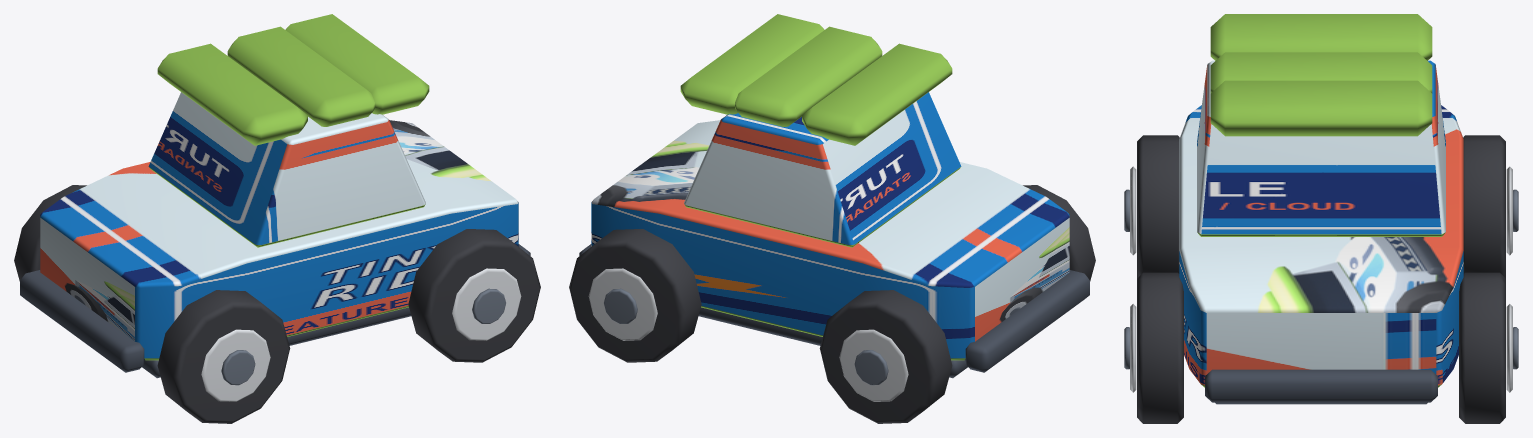
3 renders of one model, left to right at view 1: azimuth 30°, elevation 25°; view 2: azimuth 150°, elevation 25°; view 3: azimuth 270°, elevation 25°, orthographic. The views are drawn at different scales.
Visible parts, largest first — view 1: CR-02_connected_shell, CR-02_cabin, Tire, Tire.002, shell plate, shell plate.001, shell plate.002, front bumper, Rim, Rim.002, Tire.001, underbody (+2 smaller); view 2: CR-02_connected_shell, CR-02_cabin, Tire.001, Tire.003, shell plate, shell plate.001, shell plate.002, front bumper, Rim.001, Rim.003, Tire, underbody (+2 smaller); view 3: CR-02_connected_shell, CR-02_cabin, shell plate.002, shell plate, rear bumper, Tire.002, Tire.003, shell plate.001, Tire, Tire.001, underbody, Rim (+3 smaller).
Part boxes in pixels (x1,y1,x2,y2): CR-02_connected_shell: (40,120,518,360); CR-02_cabin: (148,92,425,247); Tire: (157,290,290,423); Tire.002: (408,229,540,362); shell plate: (157,43,307,145); shell plate.001: (227,26,374,126); shell plate.002: (285,14,429,114); front bumper: (20,270,145,372); Rim: (201,329,270,401); Rim.002: (452,268,521,340); Tire.001: (14,185,86,281); underbody: (142,307,411,378); CR-02_connected_shell: (591,120,1069,360); CR-02_cabin: (684,92,961,247); Tire.001: (819,290,952,423); Tire.003: (569,229,701,362); shell plate: (802,43,952,145); shell plate.001: (735,26,882,126); shell plate.002: (680,14,824,114); front bumper: (964,270,1089,372); Rim.001: (839,329,908,401); Rim.003: (588,268,657,340); Tire: (1023,185,1095,281); underbody: (698,307,967,378); CR-02_connected_shell: (1179,105,1463,387); CR-02_cabin: (1197,60,1445,236); shell plate.002: (1210,80,1432,136); shell plate: (1210,14,1432,60); rear bumper: (1205,369,1437,402); Tire.002: (1137,272,1183,423); Tire.003: (1459,272,1505,423); shell plate.001: (1210,52,1432,93); Tire: (1137,135,1179,278); Tire.001: (1463,135,1505,278); underbody: (1215,402,1427,404); Rim: (1130,166,1136,255).
Bounding box in the file's own units: 295 × 182 × 218.
